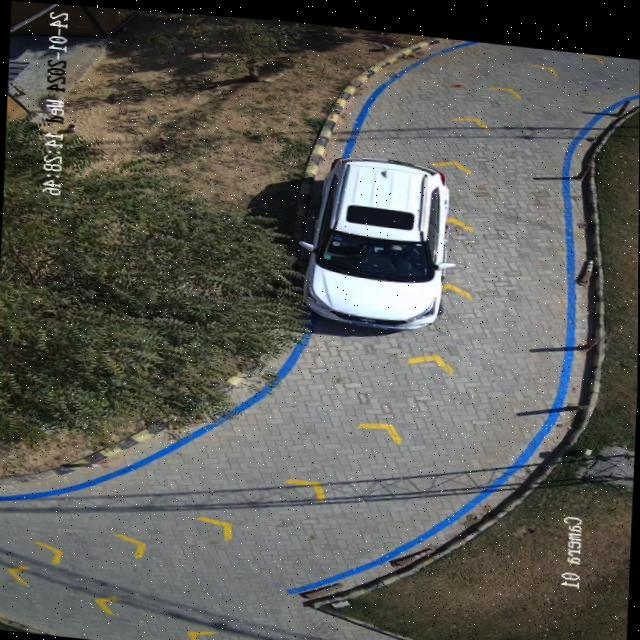car: (302, 150, 455, 323)
